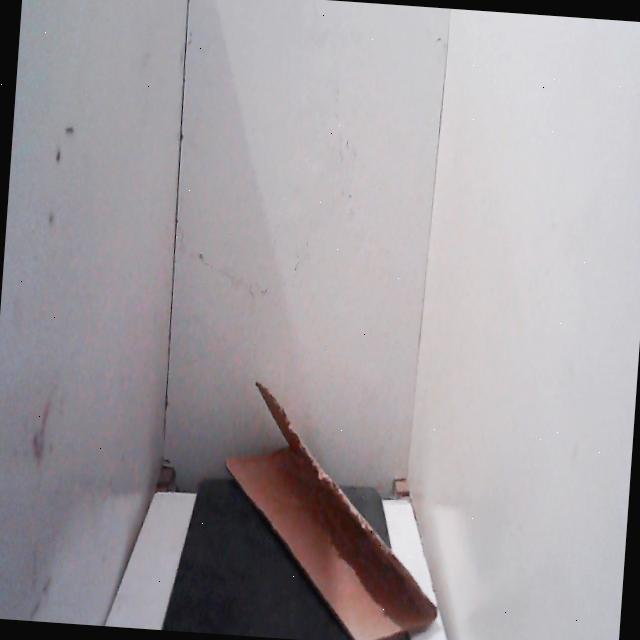papel: (203, 368, 456, 640)
